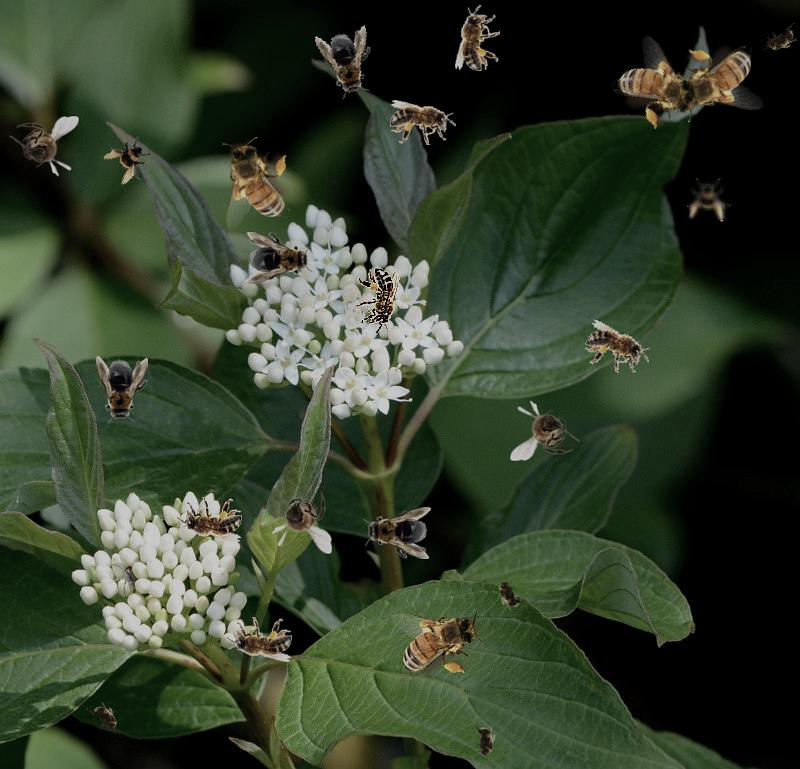Bee: (601, 30, 715, 145), (222, 137, 290, 230), (671, 46, 764, 114), (390, 609, 483, 677), (314, 23, 382, 103), (580, 318, 656, 381), (510, 400, 580, 461), (271, 484, 332, 554), (9, 116, 79, 177), (98, 128, 162, 192), (363, 507, 431, 559), (245, 232, 313, 284), (96, 356, 148, 424), (455, 5, 500, 71), (176, 497, 242, 542), (226, 617, 292, 662), (356, 268, 401, 334), (390, 100, 456, 145), (687, 178, 731, 222), (85, 696, 127, 742), (490, 571, 528, 617), (757, 22, 800, 58), (474, 722, 496, 762)
